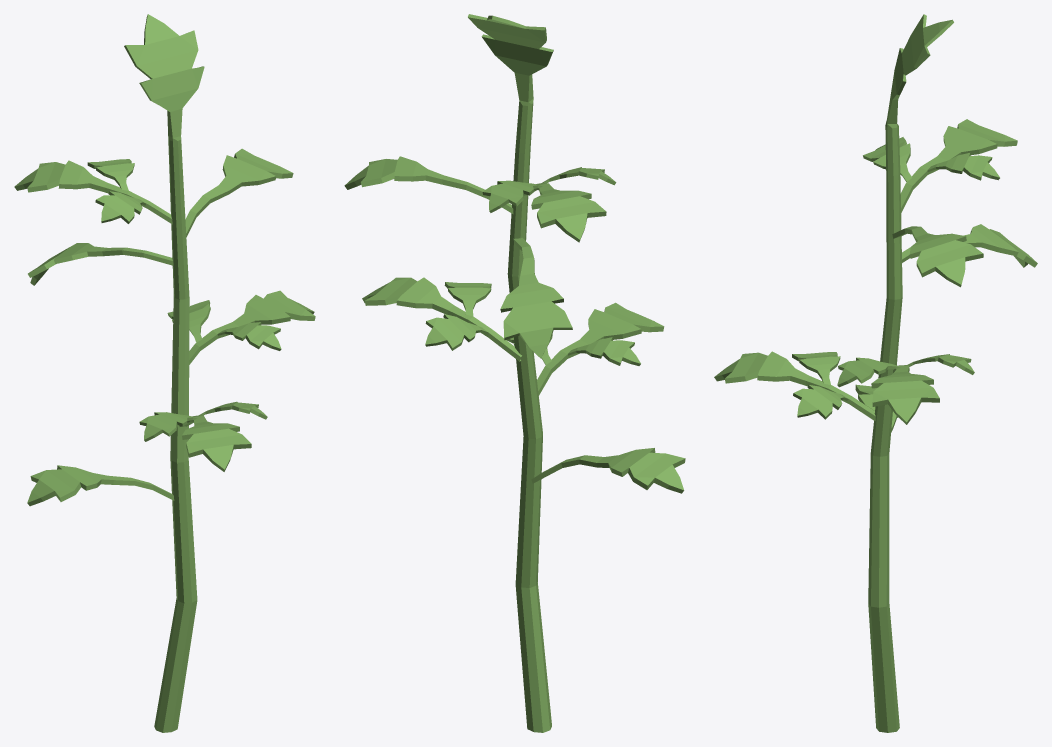
File: Tomato_3.glb
3 renders of one model, left to right at view 1: azimuth 30°, elevation 25°; view 2: azimuth 150°, elevation 25°; view 3: azimuth 270°, elevation 25°, orthographic. The views are drawn at different scales.
Parts seen in each view (by area): view 1: Tomato_3; view 2: Tomato_3; view 3: Tomato_3.
Boxes of the visible parts, x1,y1,x2,y2 form: Tomato_3: [14, 14, 315, 732]; Tomato_3: [344, 14, 685, 732]; Tomato_3: [714, 14, 1037, 732].
Size of the model in its own units: 0.6409 by 1.43 by 0.5863.
